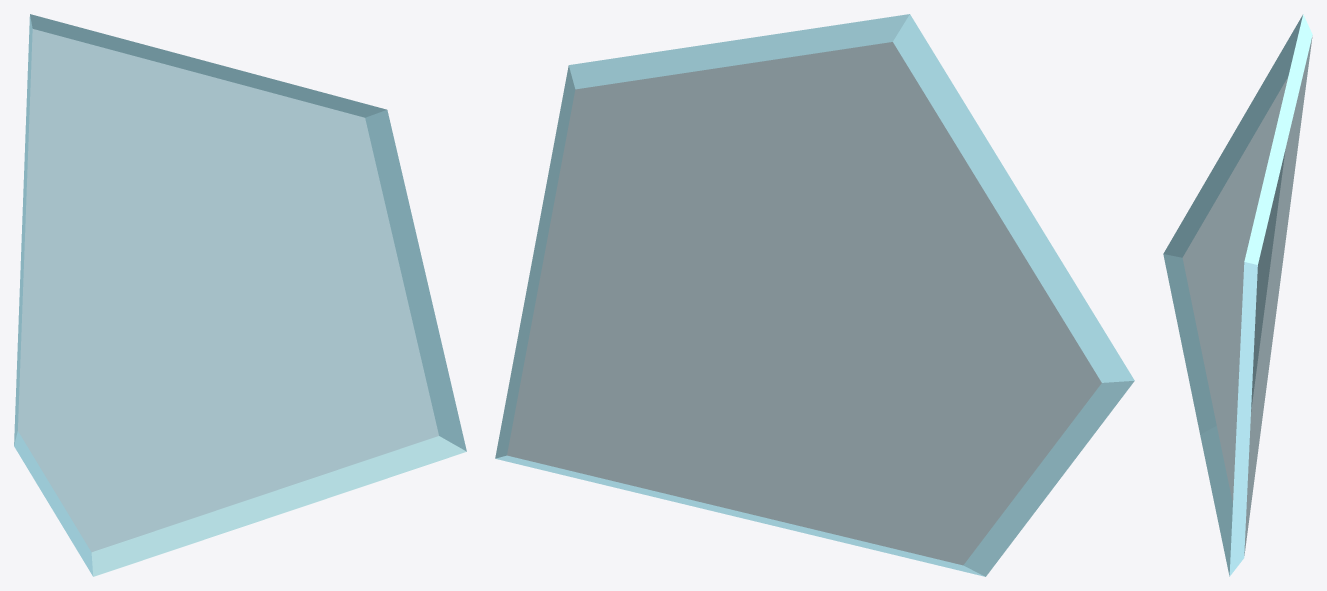
File: snow_globe_shard_back.glb
3 renders of one model, left to right at view 1: azimuth 30°, elevation 25°; view 2: azimuth 150°, elevation 25°; view 3: azimuth 270°, elevation 25°, orthographic. The views are drawn at different scales.
Parts seen in each view (by area): view 1: New faceted glass segment.002; view 2: New faceted glass segment.002; view 3: New faceted glass segment.002.
Part boxes in pixels (bbox=[...]): New faceted glass segment.002: bbox=[14, 14, 466, 576]; New faceted glass segment.002: bbox=[495, 14, 1134, 576]; New faceted glass segment.002: bbox=[1163, 14, 1312, 576].
Size of the model in its own units: 0.063 by 0.063 by 0.0203.
